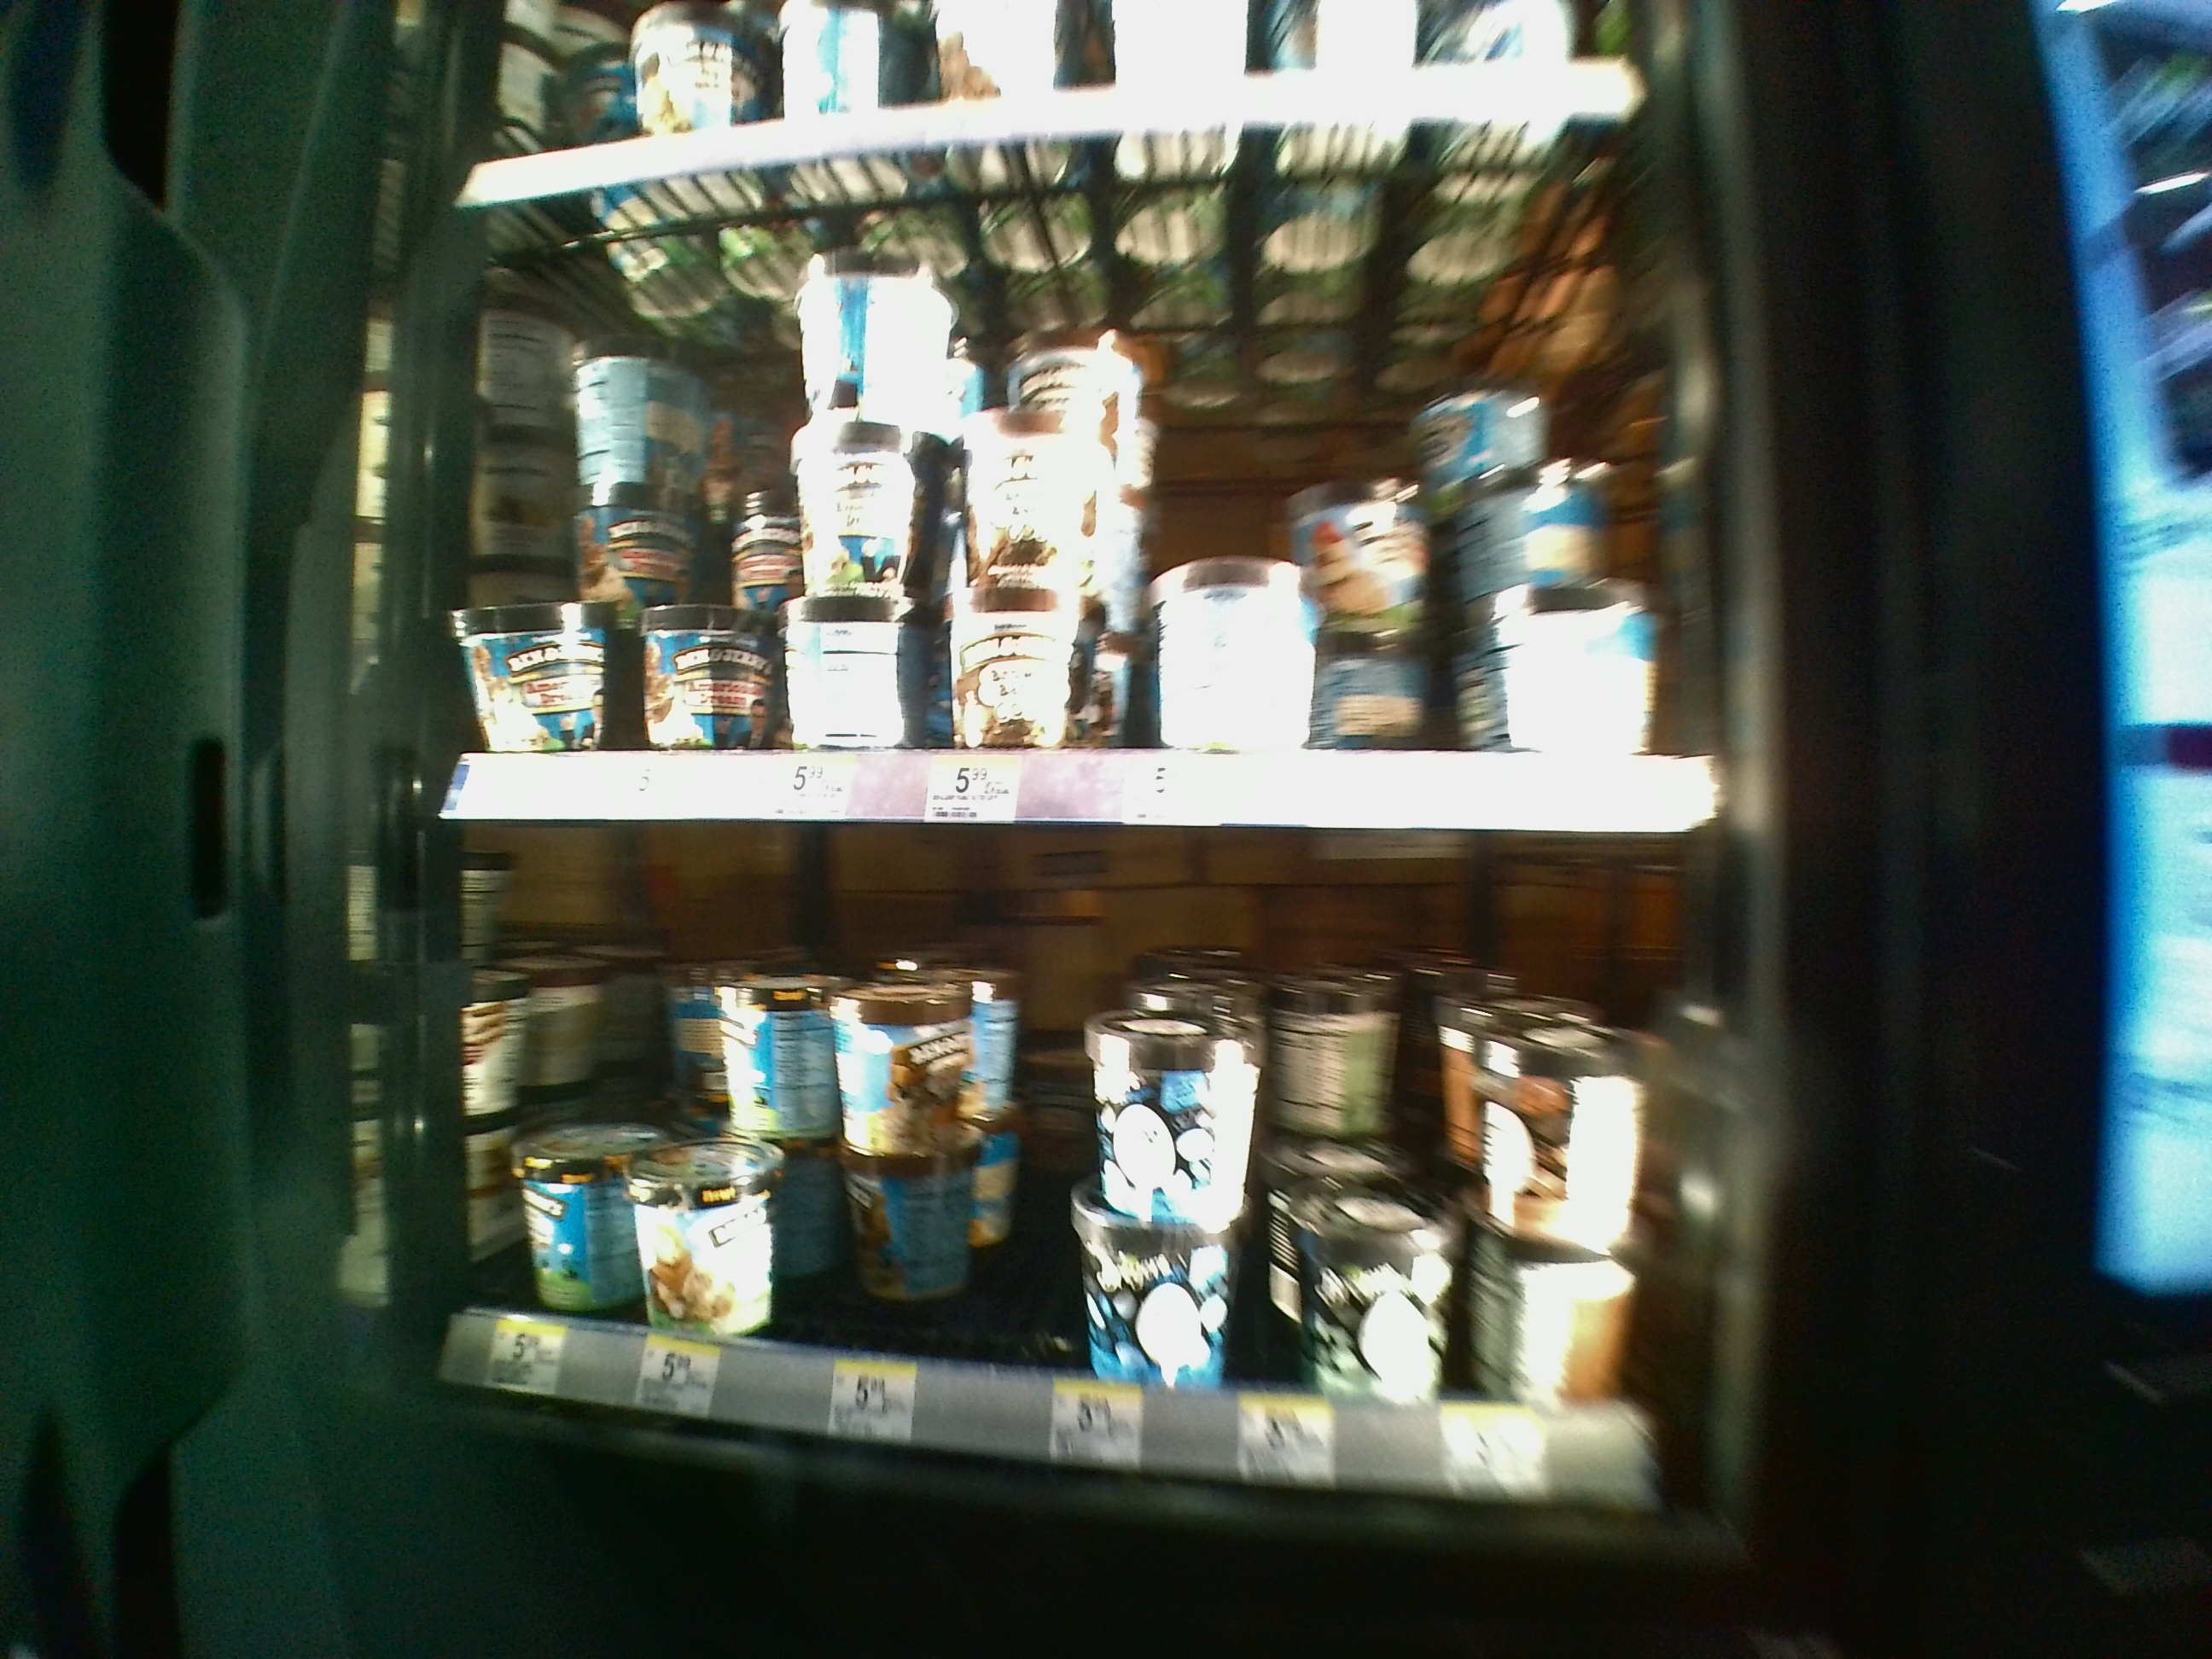shelf: (428, 113, 1714, 828), (425, 843, 1714, 1412)
